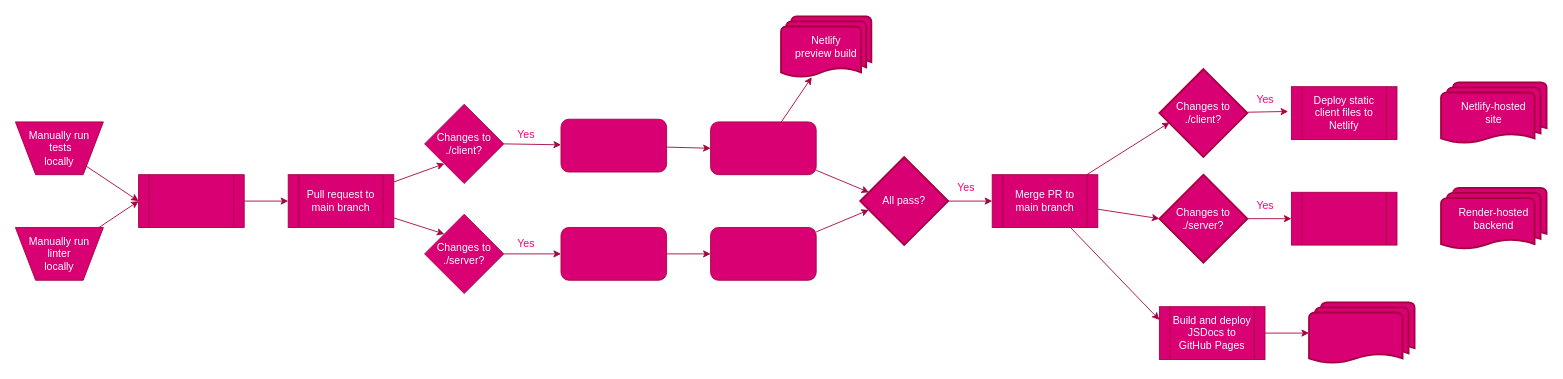
Some shapes in this 1563 by 379 pixel diagram are drawn without their labels. The shapes that lost their labels are listed below. From the top down, each one's centre as x and y in pixels, then its label:
At point (613, 145): "Run client testing suite".
At point (763, 148): "Run client linter".
At point (191, 200): "Push to individual branch".
At point (1344, 218): "Deploy Node.js backend to Render".
At point (613, 253): "Run server testing suite".
At point (763, 253): "Run server linter".
At point (1361, 332): "JSDocs on GitHub Pages".
